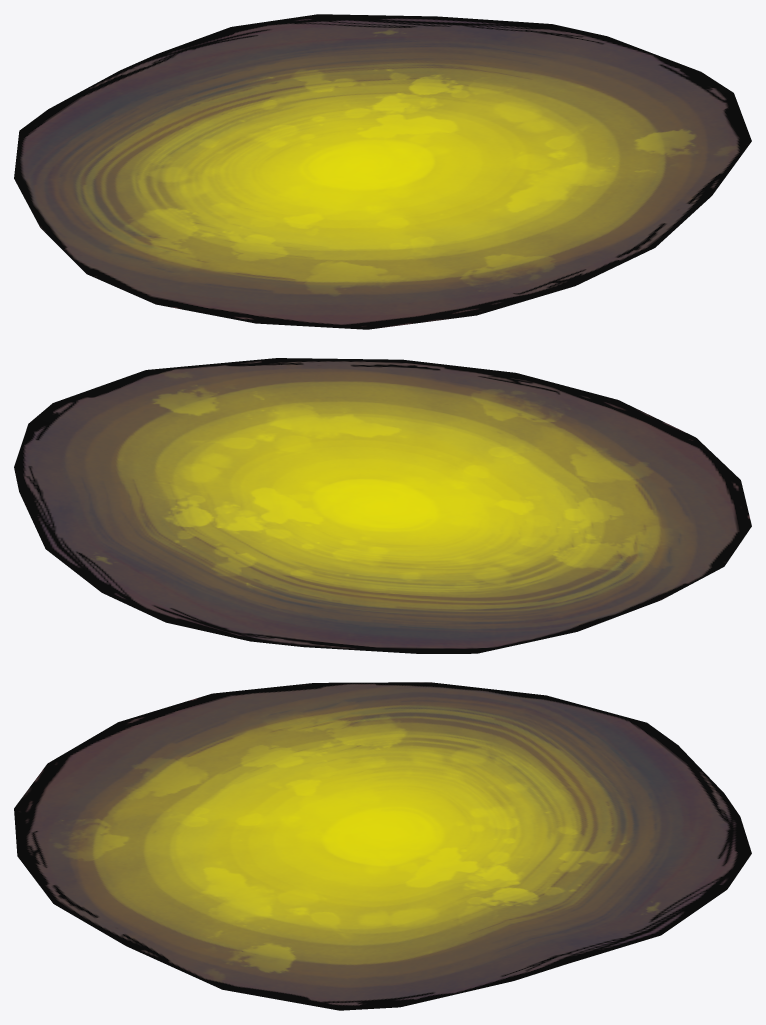
File: CosmicGoo_Puddle.fbx
3 renders of one model, top to bottom at view 1: azimuth 30°, elevation 25°; view 2: azimuth 150°, elevation 25°; view 3: azimuth 270°, elevation 25°, orthographic. The views are drawn at different scales.
Visible parts, largest first — view 1: GooPuddle; view 2: GooPuddle; view 3: GooPuddle.
Part boxes in pixels (bbox=[...]): GooPuddle: bbox=[14, 14, 751, 329]; GooPuddle: bbox=[14, 358, 751, 653]; GooPuddle: bbox=[14, 682, 751, 1010].
Size of the model in its own units: 11.45 by 0.3411 by 10.5.
